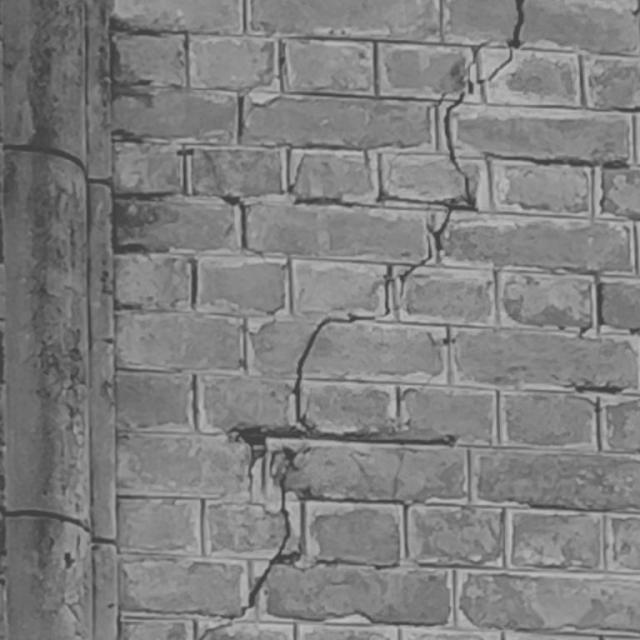crack: (201, 1, 525, 640)
